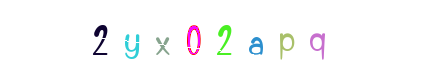0: (153, 0, 233, 80)
2: (60, 0, 140, 80), (175, 0, 255, 80)
A: (184, 0, 264, 80)
P: (185, 0, 265, 80)
Q: (245, 0, 325, 80)
X: (153, 0, 233, 80)
Y: (151, 0, 231, 80)
